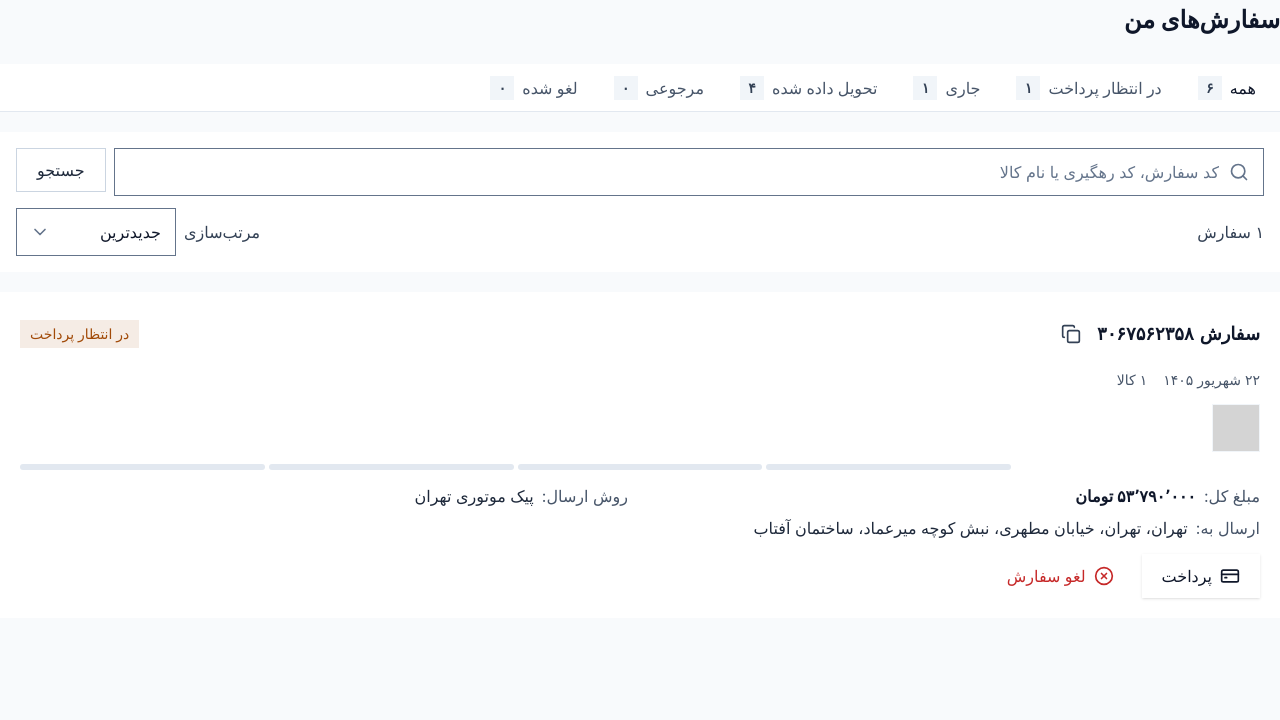
it: the card actions › a cancellation reads the wallet again (a combined attempt’s wallet leg returns to it)
The image size is (1280, 720).
Click the button "لغو سفارش" at {"x": 1060, "y": 576}, box [987,554,1134,598]
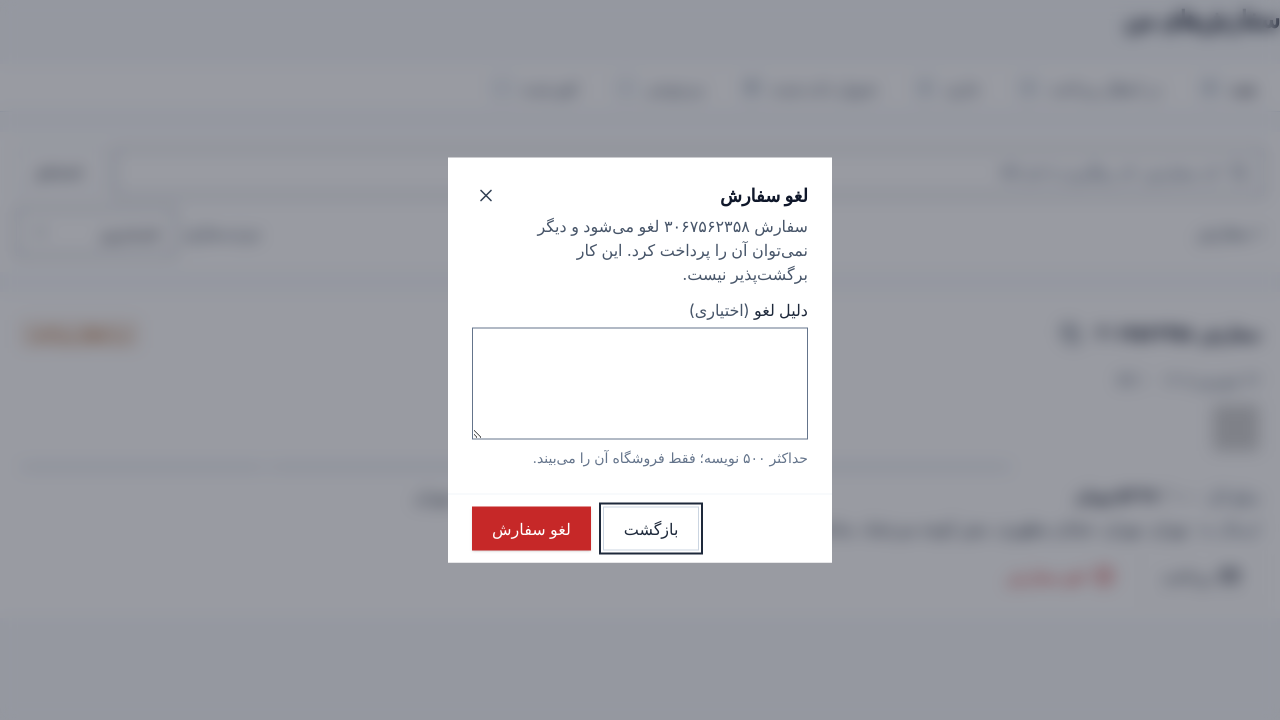
Click the button "لغو سفارش" at {"x": 531, "y": 528}, box [472,506,591,550]
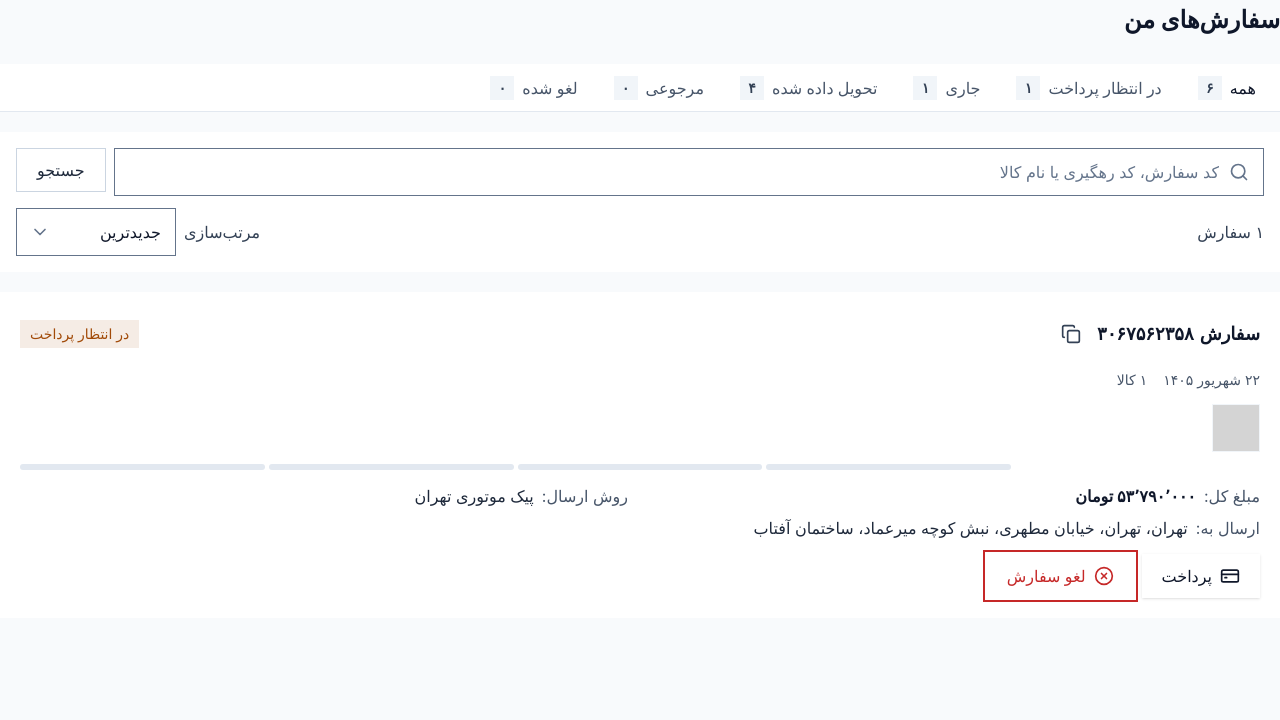
Result: the dialog is gone
